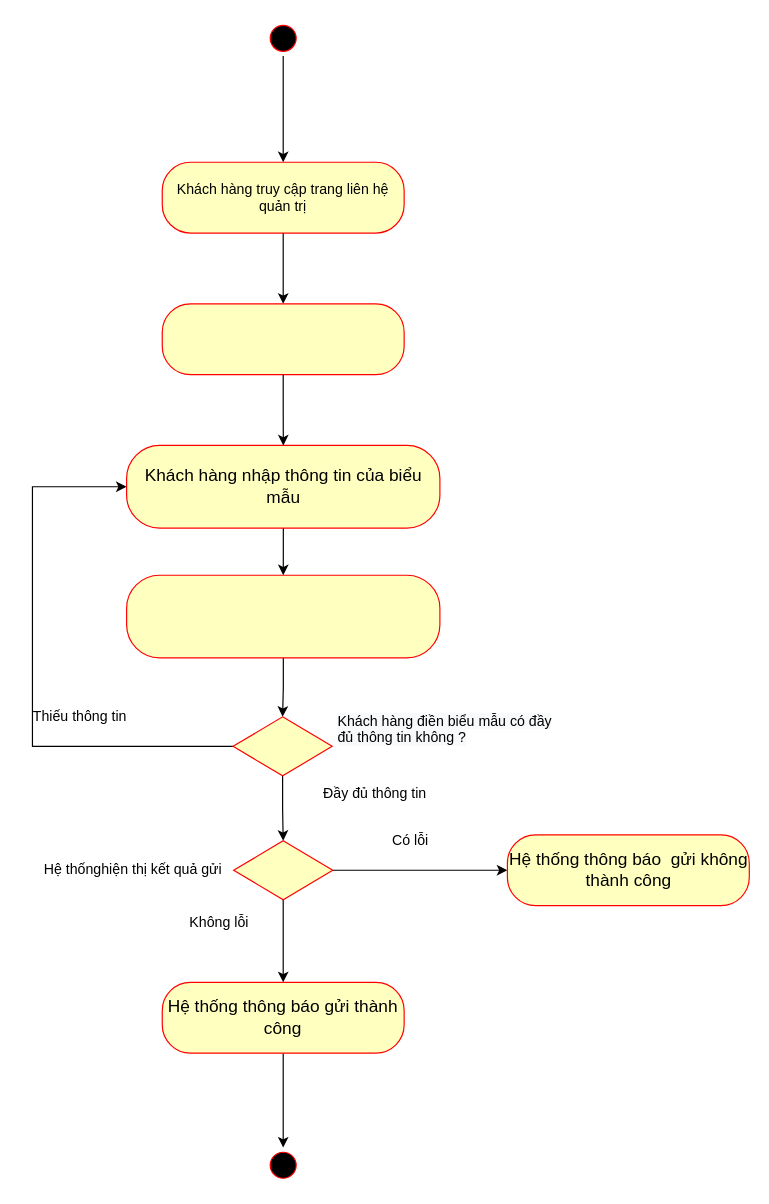
The diagram is 769 pixels wide and 1204 high, and some of its shapes have lost their labels. Each missing label, with the centre of its shape:
Hệ thống hiển thị giao diện liên hệ quản trị: (282,339)
Khách hàng nhấn nút gửi: (282,616)
